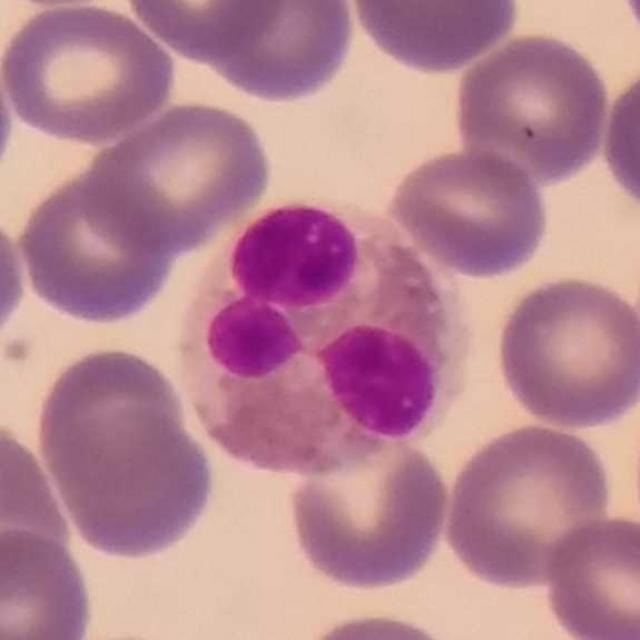Eosinophil: (180, 200, 469, 483)
RBC: (439, 419, 620, 592), (82, 97, 276, 254), (282, 421, 454, 594), (44, 402, 220, 565), (12, 164, 180, 327), (30, 342, 195, 505), (0, 1, 178, 146), (450, 29, 612, 182), (491, 270, 640, 432), (384, 145, 552, 278), (203, 0, 357, 106), (345, 0, 524, 76), (0, 418, 76, 596), (537, 511, 640, 640), (0, 524, 98, 640), (120, 0, 288, 61), (597, 56, 640, 220), (291, 607, 469, 640), (0, 222, 26, 334)
